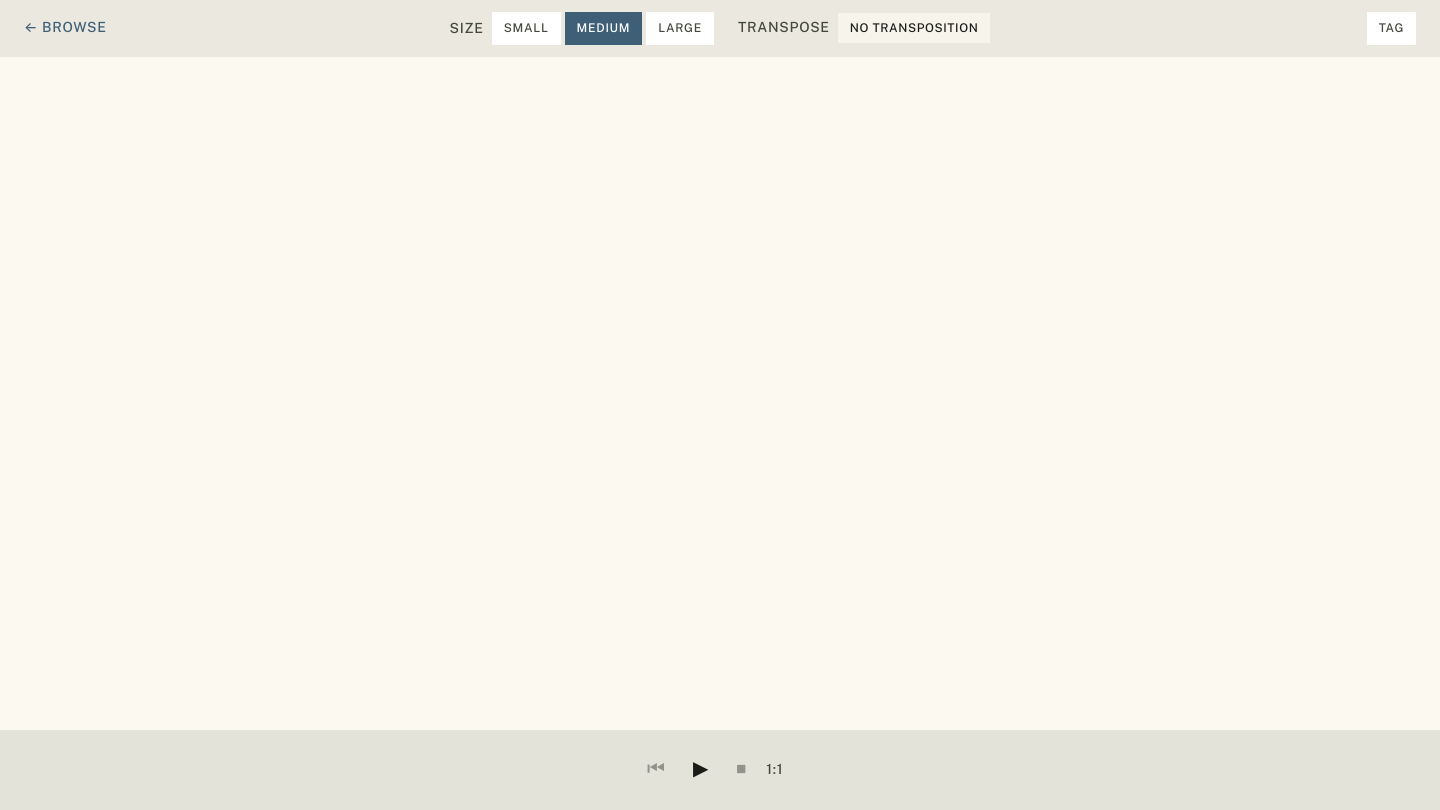
Test: ScoreViewer › shows "Loading instrument…" while the SoundFont is loading
The image size is (1440, 810).
Note: Click play — instrument loading starts but never resolves.
Click the button named "play" at (701, 770), box [685, 756, 716, 784]
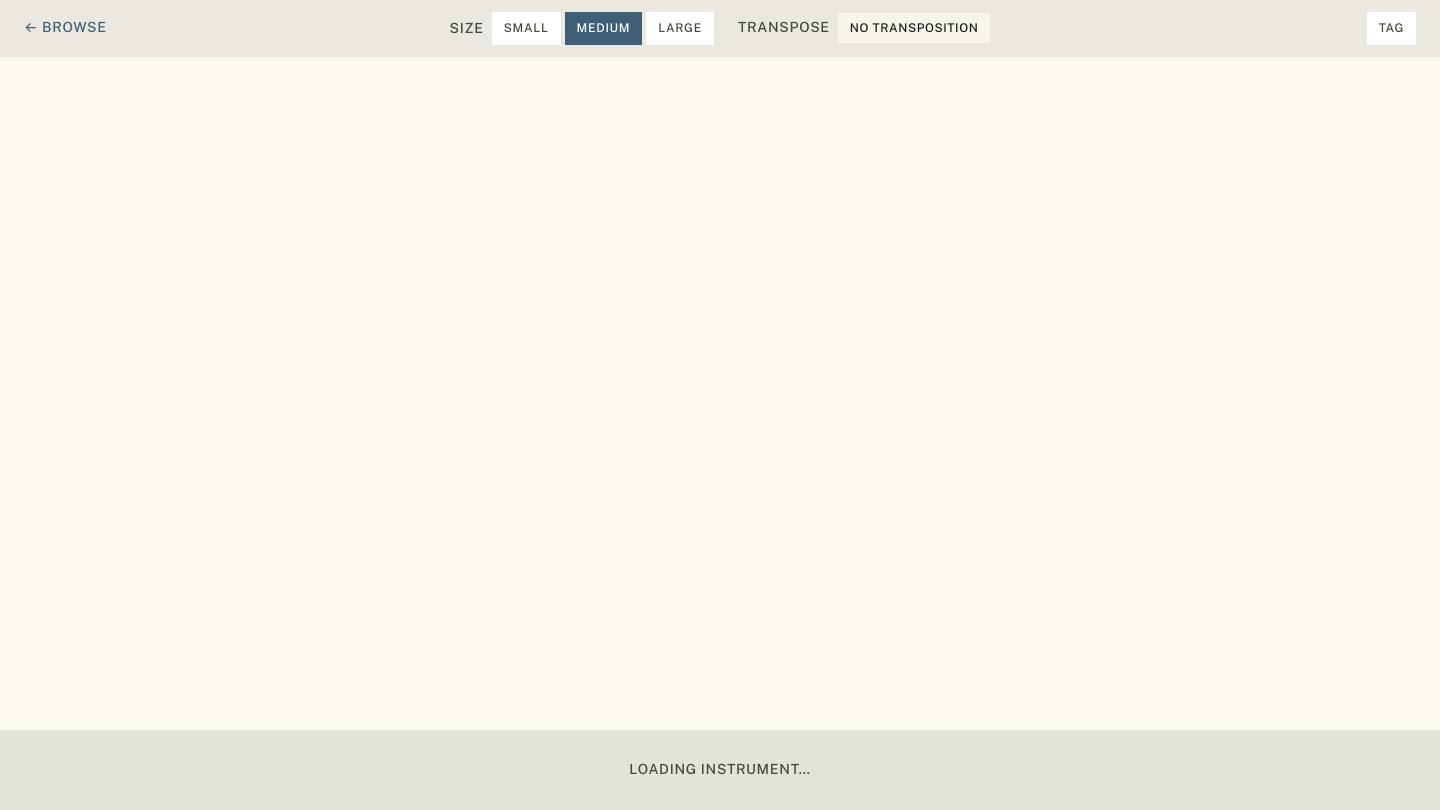
expect the text "Loading instrument…" is shown: met, box [629, 760, 811, 780]
